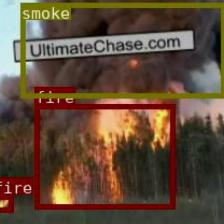fire: (34, 103, 174, 207), (0, 194, 13, 210)
smoke: (20, 2, 224, 97)
